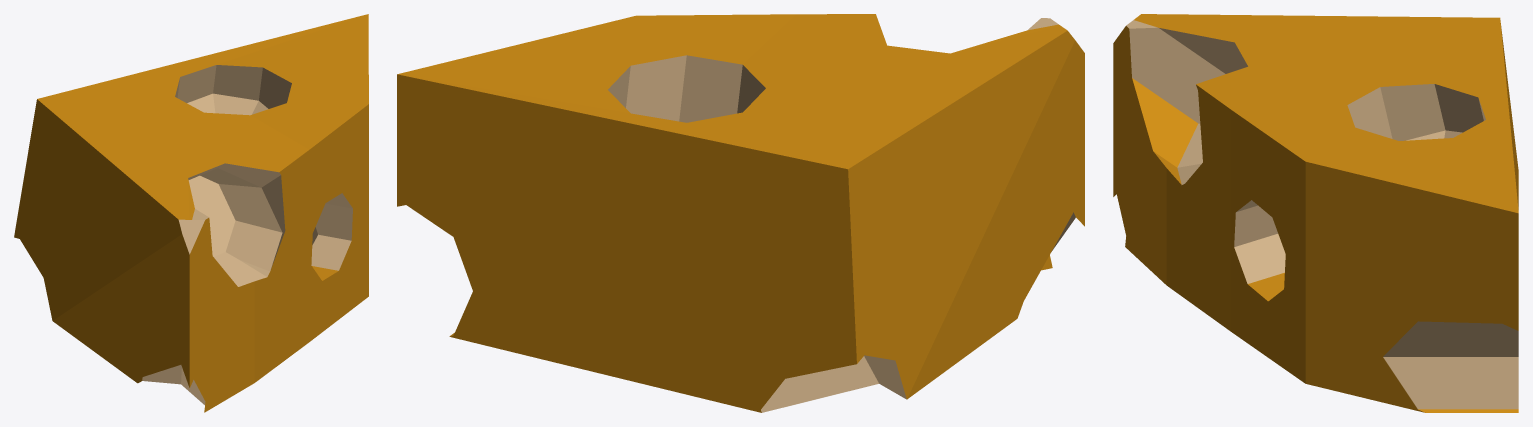
The model's file is Cheese.fbx.
3 views of the same model, side by side, from view 1: azimuth 30°, elevation 25°; view 2: azimuth 150°, elevation 25°; view 3: azimuth 270°, elevation 25° (orthographic). The views are drawn at different scales.
Parts seen in each view (by area): view 1: Cube; view 2: Cube; view 3: Cube.
Part boxes in pixels (x1,y1,x2,y2): Cube: (14,14,368,412); Cube: (397,14,1084,412); Cube: (1113,14,1518,412).
Size of the model in its own units: 250 by 132 by 214.
